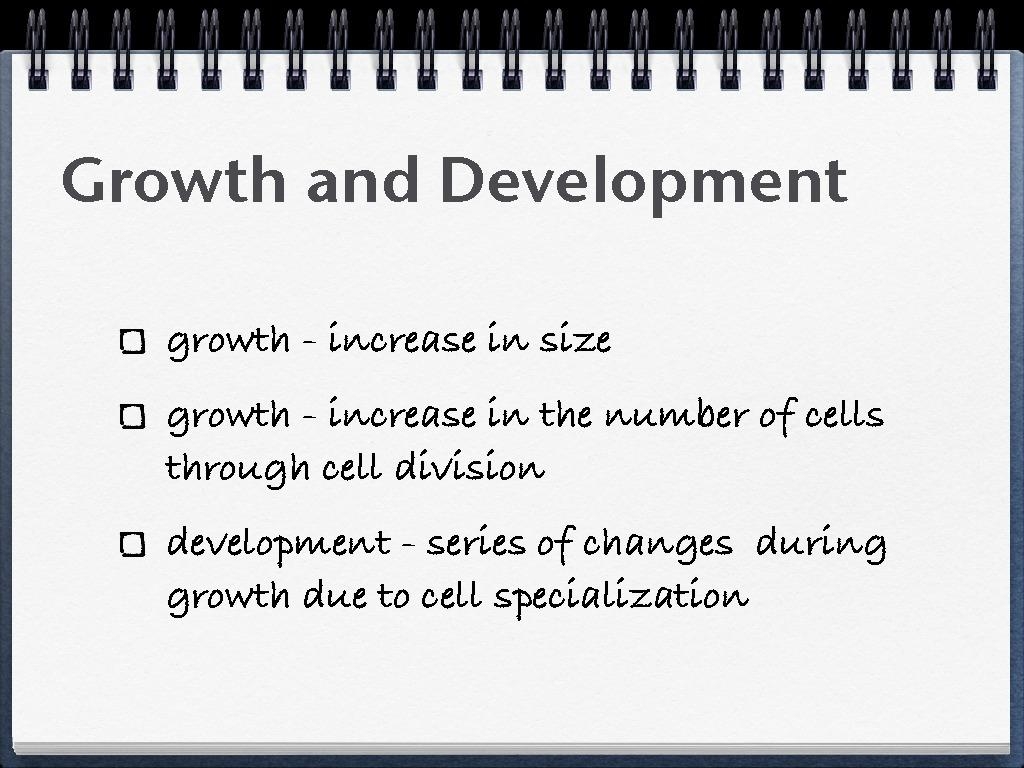paragraph: (108, 294, 943, 635)
title: (62, 139, 861, 228)
